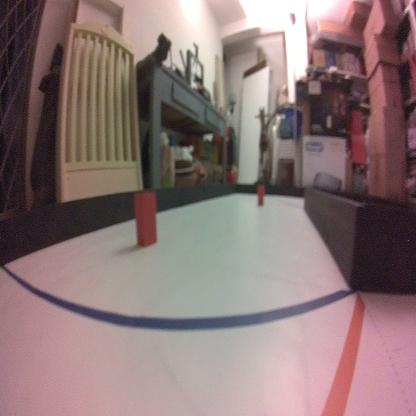red: (133, 190, 157, 249), (257, 185, 265, 206)
